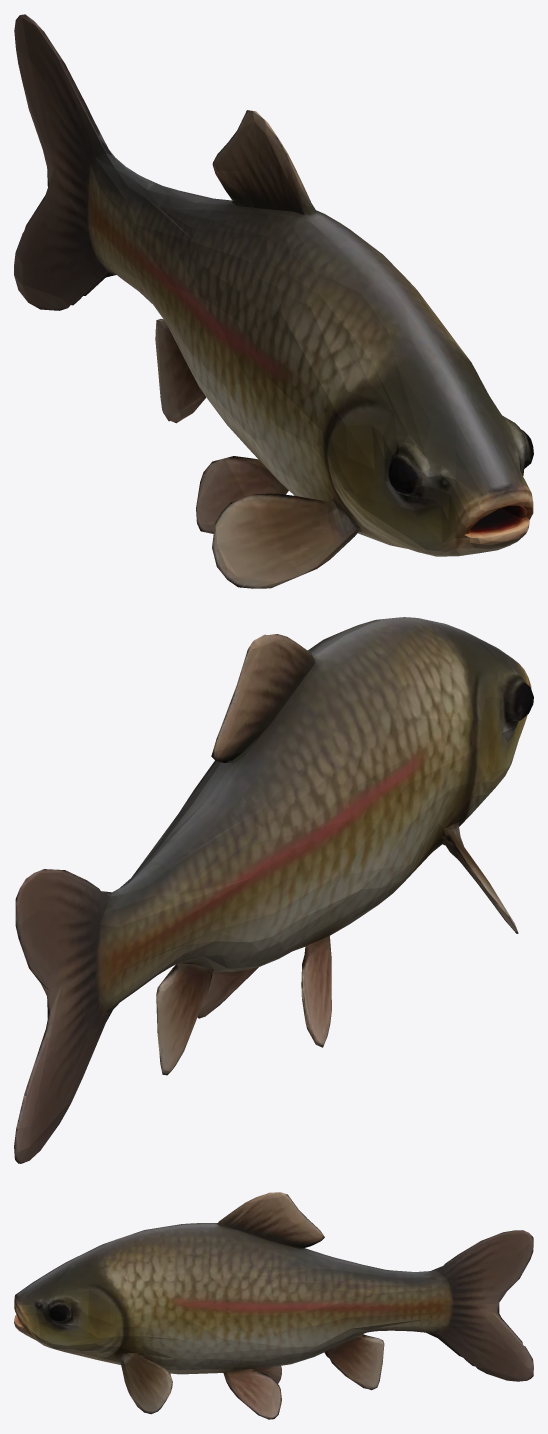
Rendered from largescale_sucker.glb.
3 views of the same model, one above another, from view 1: azimuth 30°, elevation 25°; view 2: azimuth 150°, elevation 25°; view 3: azimuth 270°, elevation 25° (orthographic). The views are drawn at different scales.
Visible parts, largest first — view 1: geometry_0; view 2: geometry_0; view 3: geometry_0.
Part boxes in pixels (x1=…): geometry_0: x1=14, y1=14, x2=533, y2=588; geometry_0: x1=14, y1=617, x2=533, y2=1163; geometry_0: x1=14, y1=1192, x2=533, y2=1419.
Size of the model in its own units: 0.3552 by 0.4492 by 1.
1 material, 1 textured.
